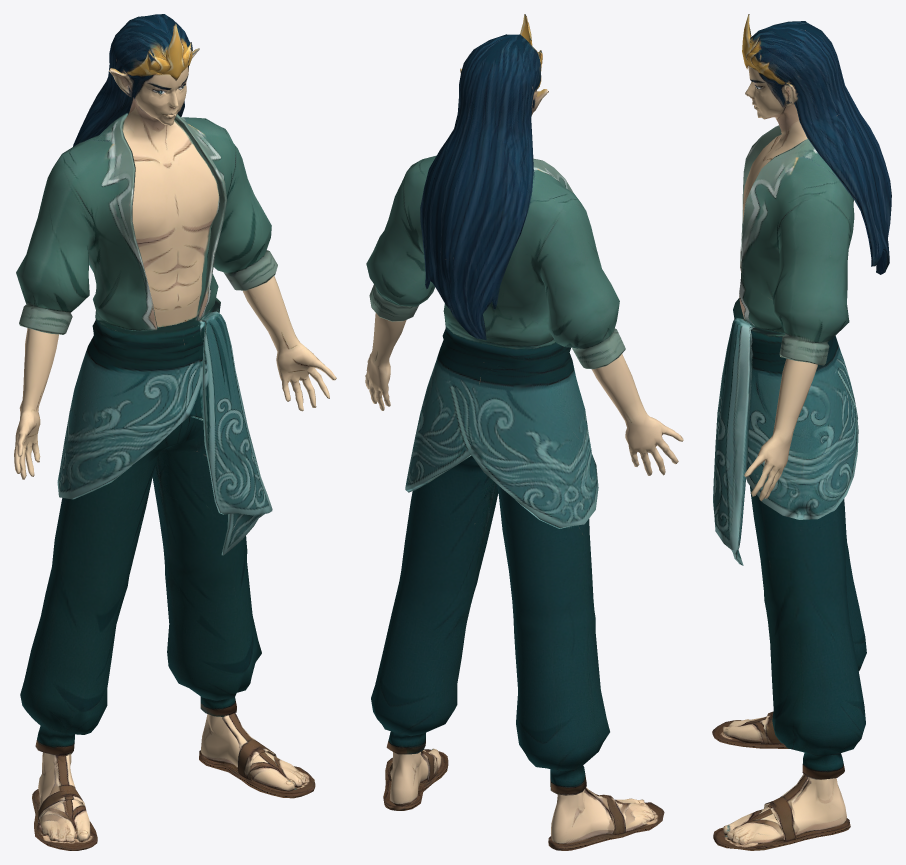
Rendered from thuy_tinh_mesh.fbx.
The picture shows the model from 3 angles, left to right: view 1: azimuth 30°, elevation 25°; view 2: azimuth 150°, elevation 25°; view 3: azimuth 270°, elevation 25°; orthographic projection.
Parts seen in each view (by area): view 1: Mesh_0; view 2: Mesh_0; view 3: Mesh_0.
Part boxes in pixels (left/top/right/bottom): Mesh_0: left=14, top=14, right=336, bottom=850; Mesh_0: left=365, top=14, right=683, bottom=850; Mesh_0: left=712, top=14, right=891, bottom=850.
Size of the model in its own units: 42.38 by 100 by 21.09.
1 material, 1 textured.
